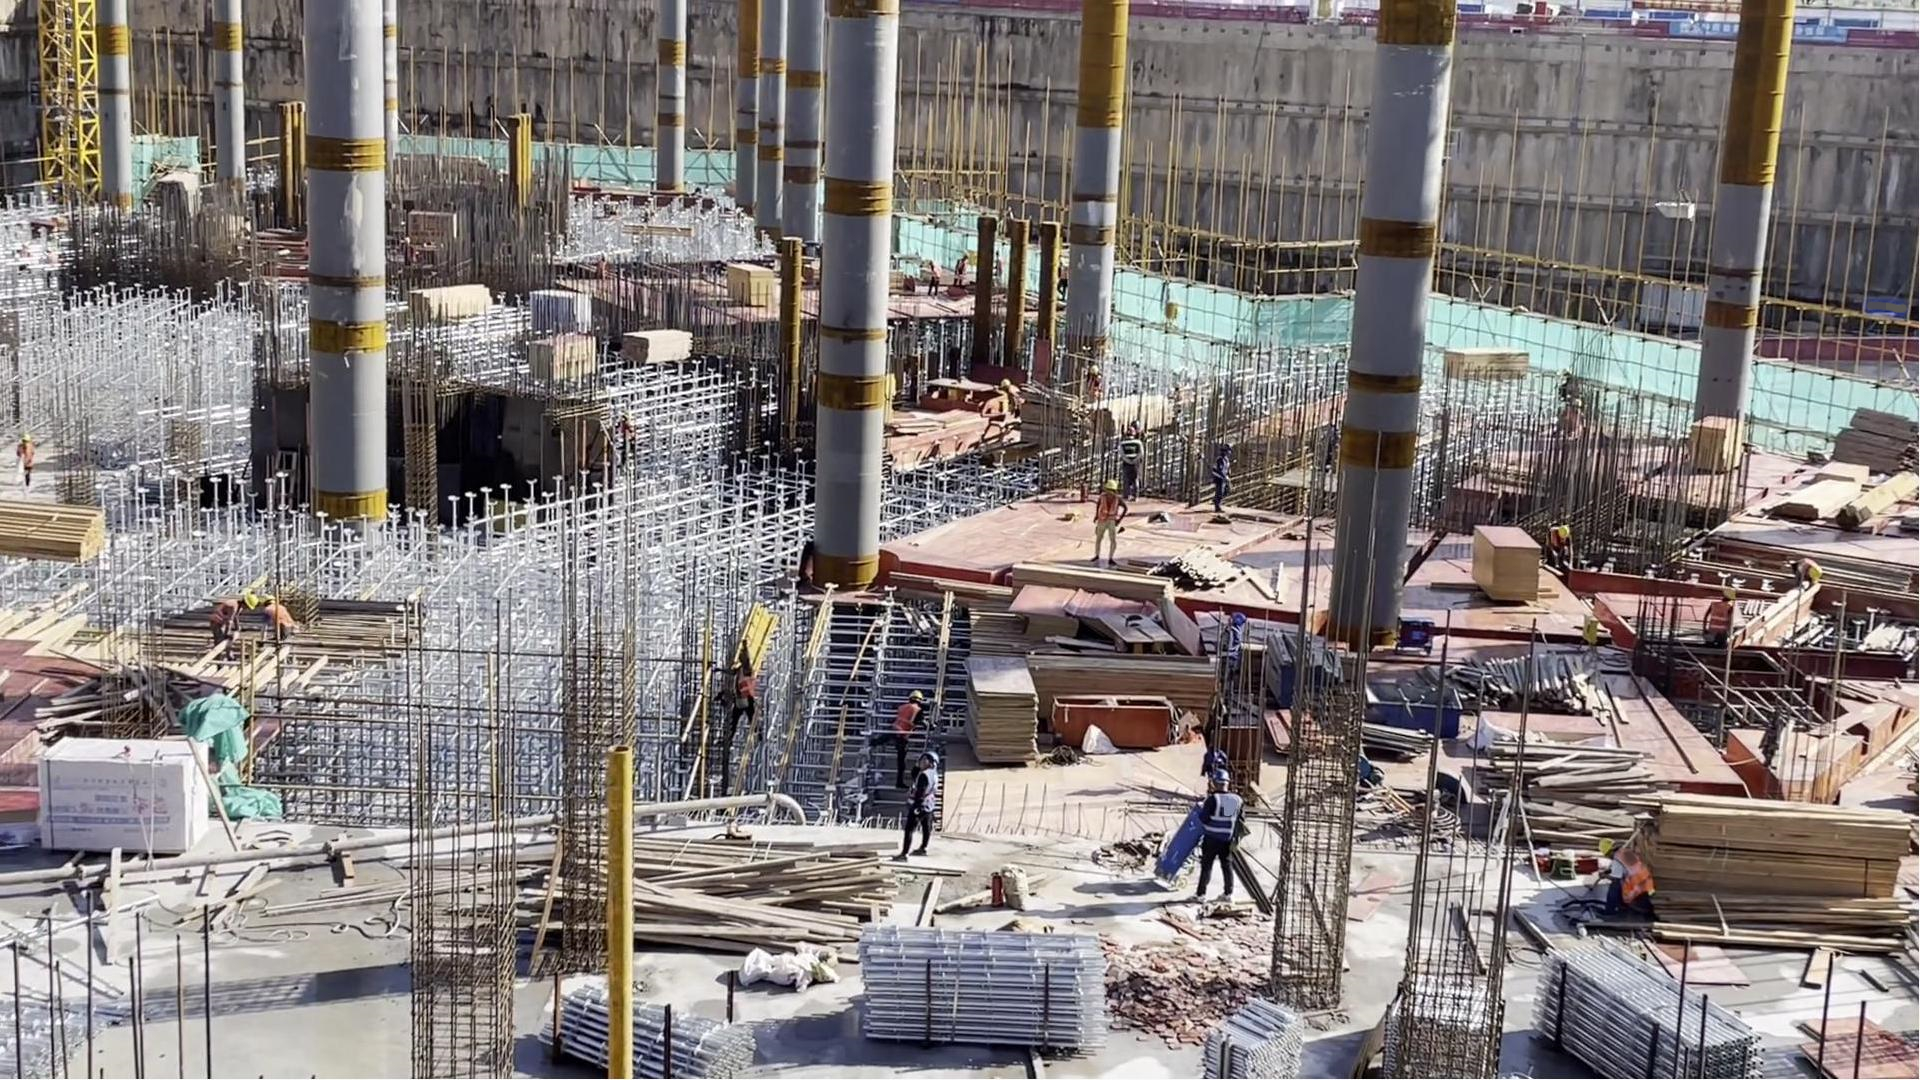helmet: (1209, 768, 1230, 789), (917, 751, 941, 769), (1595, 836, 1611, 852), (243, 593, 258, 609), (906, 690, 924, 703), (1229, 613, 1247, 627), (258, 593, 275, 607), (1123, 426, 1139, 439), (1809, 565, 1823, 580), (1721, 587, 1736, 600), (1555, 526, 1569, 538), (1105, 478, 1116, 491), (1221, 443, 1232, 452)
person: (1191, 764, 1248, 905), (717, 642, 771, 774), (1596, 836, 1652, 917), (904, 752, 941, 859), (199, 592, 258, 655), (1213, 613, 1247, 708), (1090, 479, 1125, 570), (887, 689, 926, 758), (262, 591, 300, 659), (1703, 584, 1736, 657), (1116, 427, 1144, 500), (1209, 443, 1236, 519), (1793, 559, 1829, 592), (1548, 525, 1572, 574), (17, 434, 36, 487), (1081, 365, 1101, 411), (952, 249, 971, 293), (1002, 373, 1019, 418), (1057, 256, 1069, 310), (925, 261, 943, 295)
vest: (1613, 846, 1652, 906), (1202, 793, 1237, 855), (1095, 494, 1122, 531), (915, 770, 937, 815), (730, 672, 758, 707), (206, 600, 240, 627), (894, 700, 917, 740), (1222, 623, 1241, 670), (263, 605, 295, 632), (1707, 601, 1731, 635), (1208, 456, 1232, 487), (1121, 439, 1143, 469), (17, 441, 33, 470)
